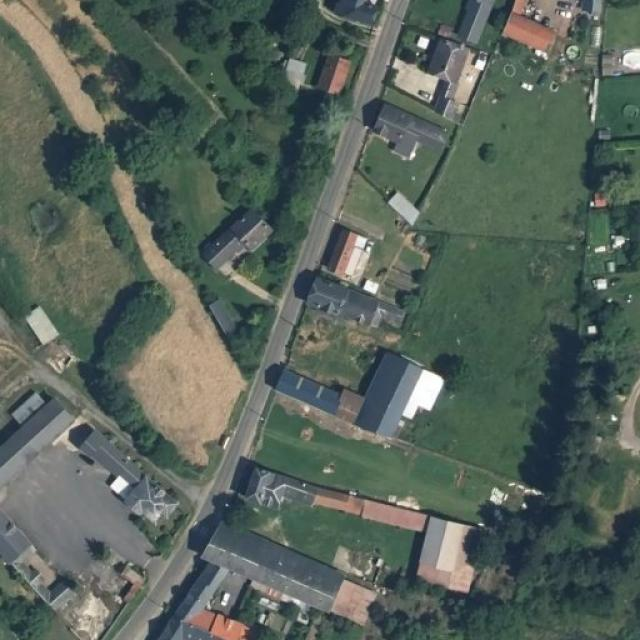ferme: (247, 468, 433, 528), (416, 497, 484, 592), (384, 182, 426, 226), (280, 39, 310, 90), (208, 296, 238, 340)
maison: (276, 331, 443, 437), (214, 517, 345, 608), (178, 563, 262, 637), (310, 274, 410, 334), (373, 96, 455, 162), (204, 201, 275, 270), (498, 0, 572, 59), (429, 22, 466, 104), (325, 221, 370, 278), (315, 53, 350, 97), (122, 558, 146, 585)
usine: (0, 368, 74, 592), (74, 418, 180, 523)
